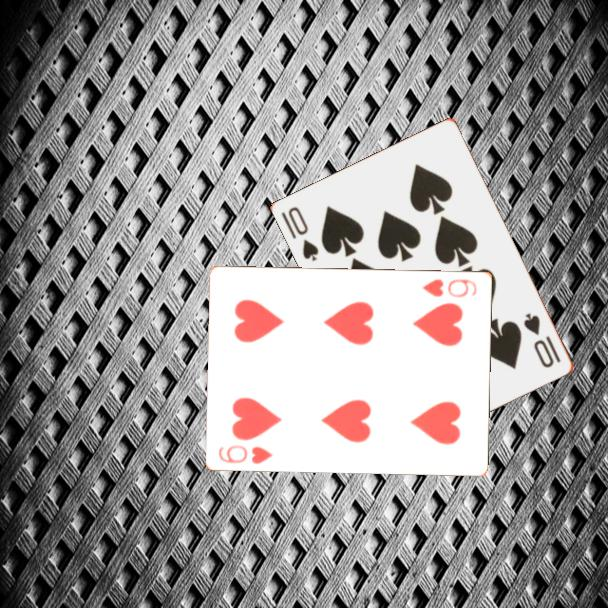h06: (419, 275, 480, 300), (215, 441, 275, 466)
s10: (520, 309, 564, 371), (278, 203, 322, 264)
